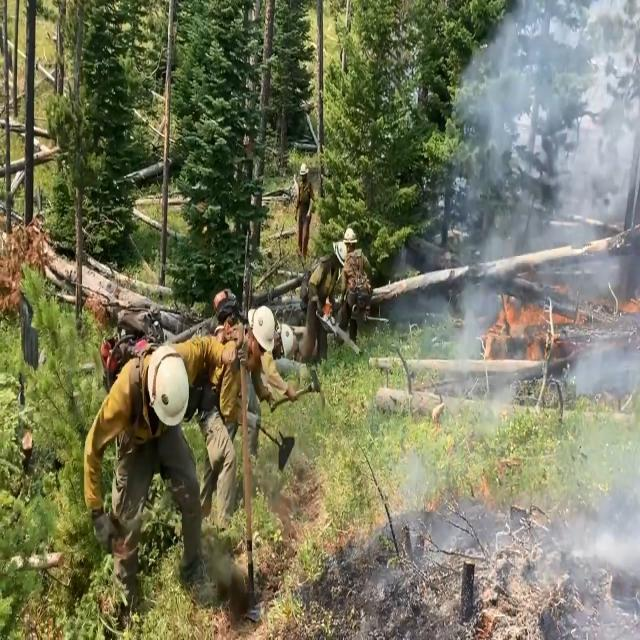Fire: (487, 284, 637, 359)
